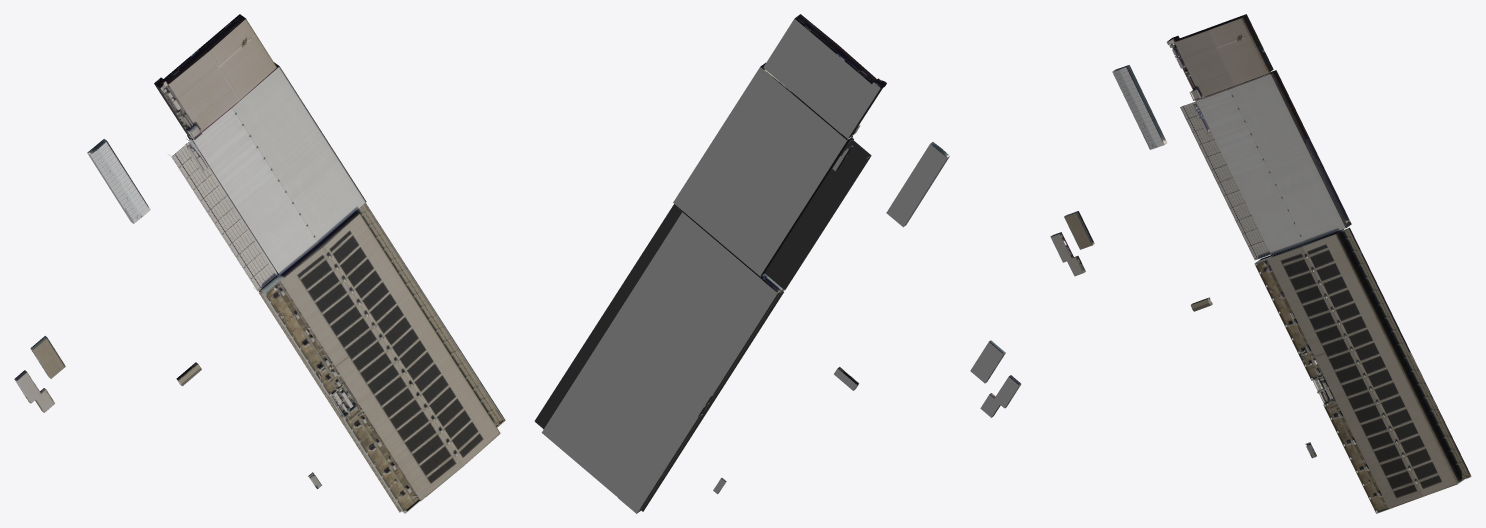
File: 53392642_bldg_6677.obj
3 views of the same model, side by side, from view 1: azimuth 30°, elevation 25°; view 2: azimuth 150°, elevation 25°; view 3: azimuth 330°, elevation 25° (orthographic). The views are drawn at different scales.
Bounding box in the file's own units: 393 × 411 × 17.05.
8 materials, 8 textured.
